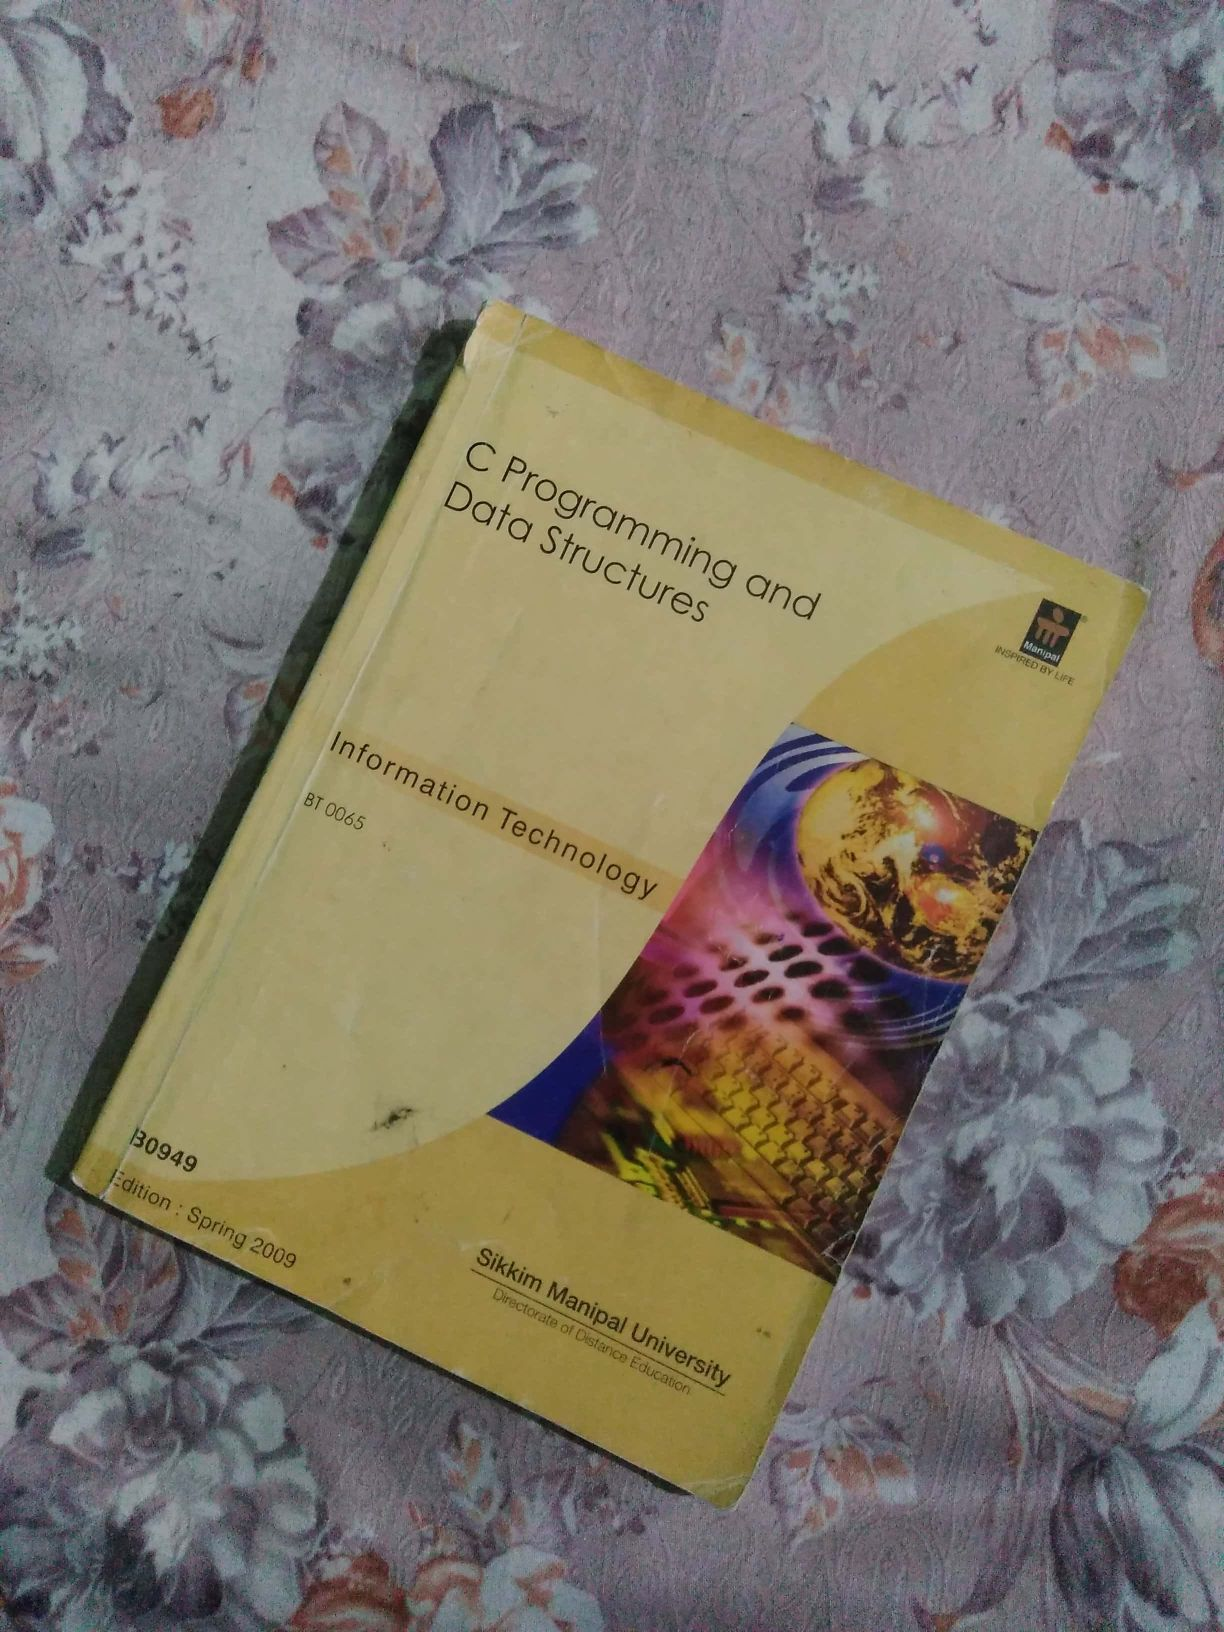clang: (114, 312, 1155, 1487)
